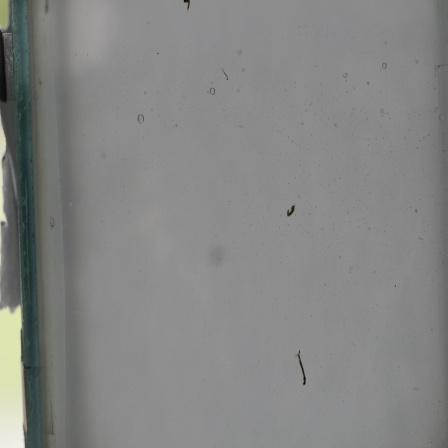Jentik-Nyamuk: (292, 348, 310, 390), (282, 202, 297, 220)
